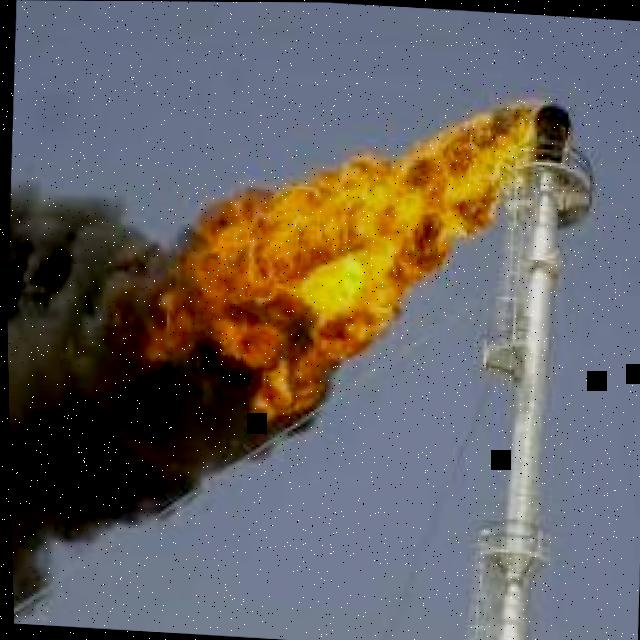fire: (142, 96, 556, 418)
smoke: (5, 174, 324, 613)
